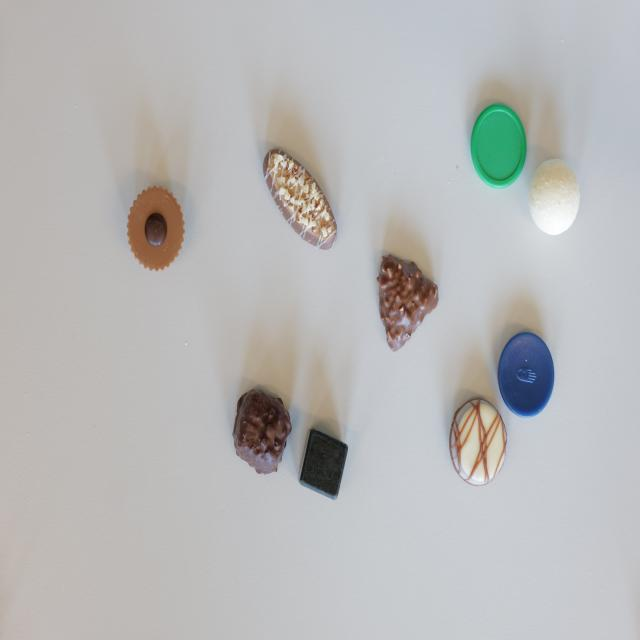Amandina: (263, 147, 338, 250)
Comtesse: (529, 159, 580, 236)
Creme_brulee: (450, 398, 508, 486)
Noblesse: (128, 185, 186, 273)
Tentation_noir: (233, 388, 292, 476)
Triangolo: (376, 252, 439, 352)
